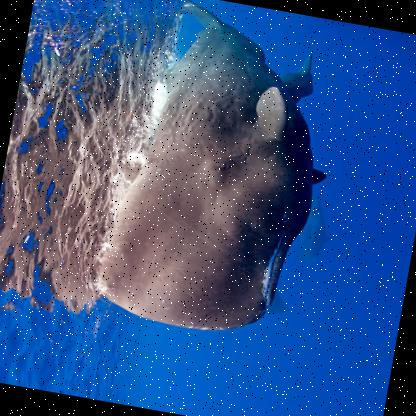sperm_whale: (81, 8, 370, 354)
